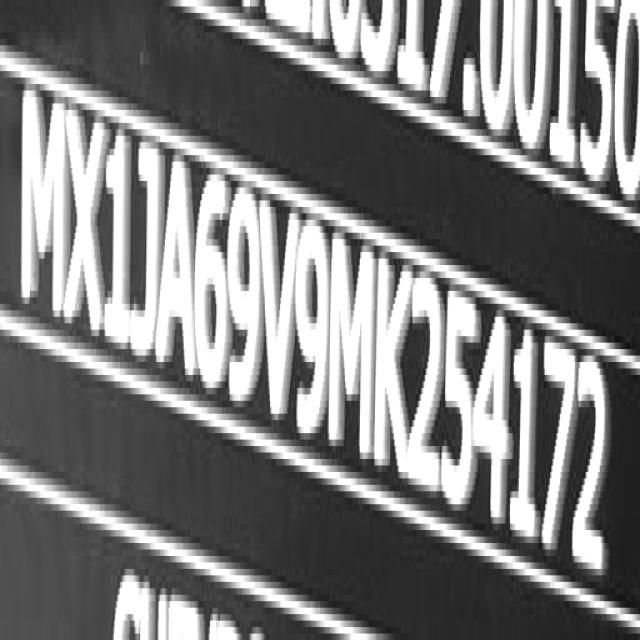1: (103, 122, 133, 358), (512, 322, 540, 558)
2: (574, 356, 612, 587), (410, 275, 443, 505)
4: (474, 309, 509, 544)
5: (443, 287, 476, 521)
6: (195, 161, 230, 397)
7: (539, 332, 576, 579)
9: (296, 216, 330, 452), (227, 183, 261, 418)
A: (157, 148, 195, 382)
J: (123, 134, 161, 370)
K: (372, 249, 412, 500)
M: (18, 78, 66, 328), (331, 232, 374, 473)
V: (260, 194, 296, 437)
X: (63, 103, 105, 347)
